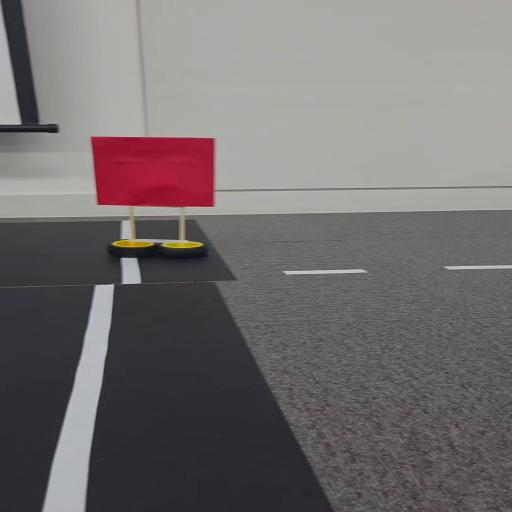Sign_A: (79, 128, 226, 265)
